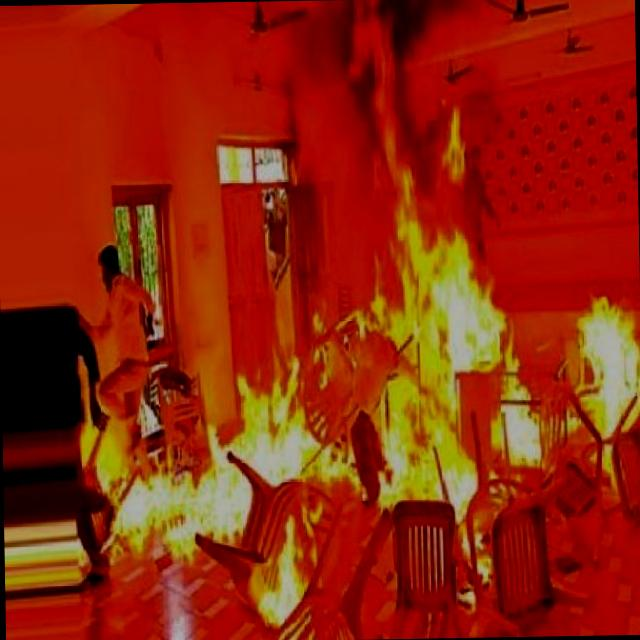fire: (196, 264, 615, 574)
